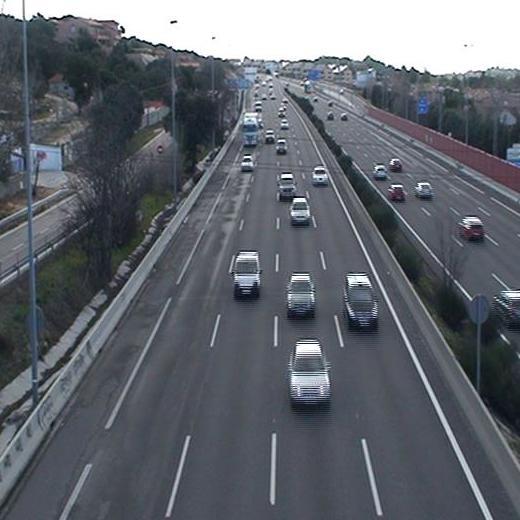car: (285, 337, 334, 406), (342, 273, 381, 330), (231, 249, 263, 300), (286, 272, 318, 318), (289, 195, 310, 225), (278, 171, 297, 198), (311, 164, 330, 187), (239, 155, 255, 173), (276, 138, 289, 155)
truck: (239, 110, 260, 145)
